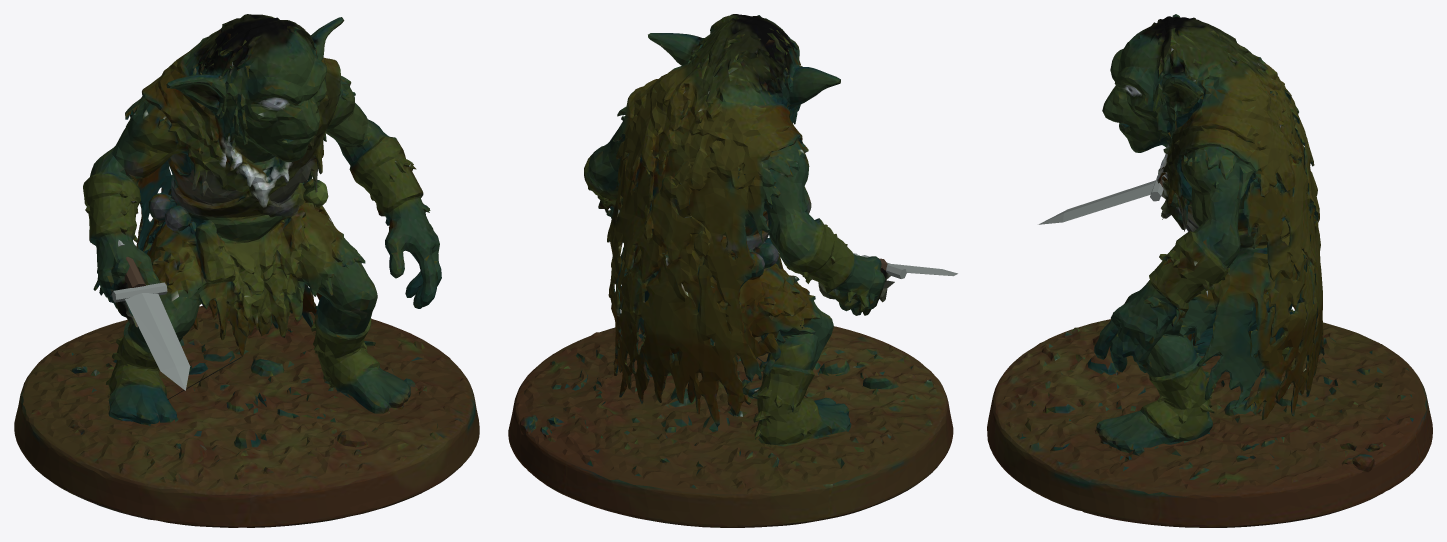
File: goblinCombatente_shortsword_sem_escudo.glb
3 views of the same model, side by side, from view 1: azimuth 30°, elevation 25°; view 2: azimuth 150°, elevation 25°; view 3: azimuth 270°, elevation 25° (orthographic). The views are drawn at different scales.
Visible parts, largest first — view 1: goblinCombatente_shortsword_sem_escudo; view 2: goblinCombatente_shortsword_sem_escudo; view 3: goblinCombatente_shortsword_sem_escudo.
Part boxes in pixels (left/top/right/bottom): goblinCombatente_shortsword_sem_escudo: left=14, top=14, right=479, bottom=527; goblinCombatente_shortsword_sem_escudo: left=508, top=14, right=957, bottom=527; goblinCombatente_shortsword_sem_escudo: left=987, top=14, right=1432, bottom=527.
Bounding box in the file's own units: 1.94 × 1.96 × 1.91.
Materials: 3 (1 with a texture image).
